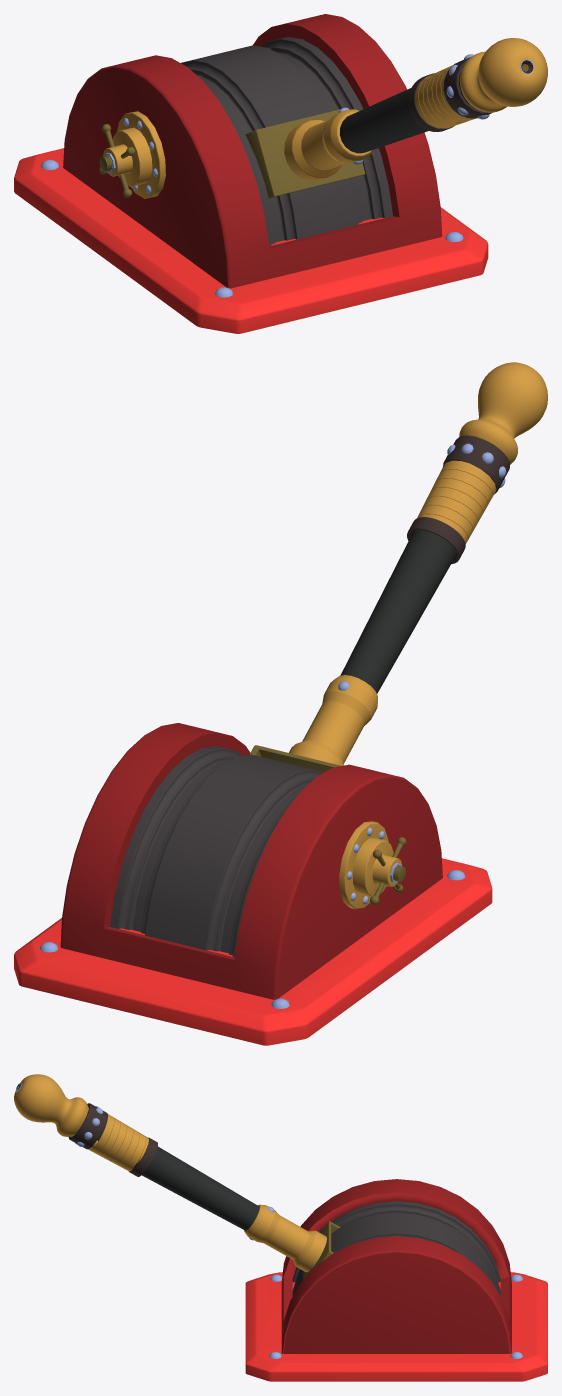
Rendered from RealLever.fbx.
3 renders of one model, top to bottom at view 1: azimuth 30°, elevation 25°; view 2: azimuth 150°, elevation 25°; view 3: azimuth 270°, elevation 25°, orthographic. The views are drawn at different scales.
Visible parts, largest first — view 1: Plane.001, Handle.001, Lever.001; view 2: Plane.001, Handle.001, Lever.001; view 3: Plane.001, Handle.001.
Boxes of the visible parts, x1,y1,x2,y2 form: Plane.001: (14,14,488,333); Handle.001: (245,38,547,198); Lever.001: (99,111,165,198); Plane.001: (14,723,492,1045); Handle.001: (249,362,547,772); Lever.001: (339,821,406,909); Plane.001: (245,1179,547,1381); Handle.001: (14,1074,340,1279).
Size of the model in its own units: 151 by 184 by 346.
